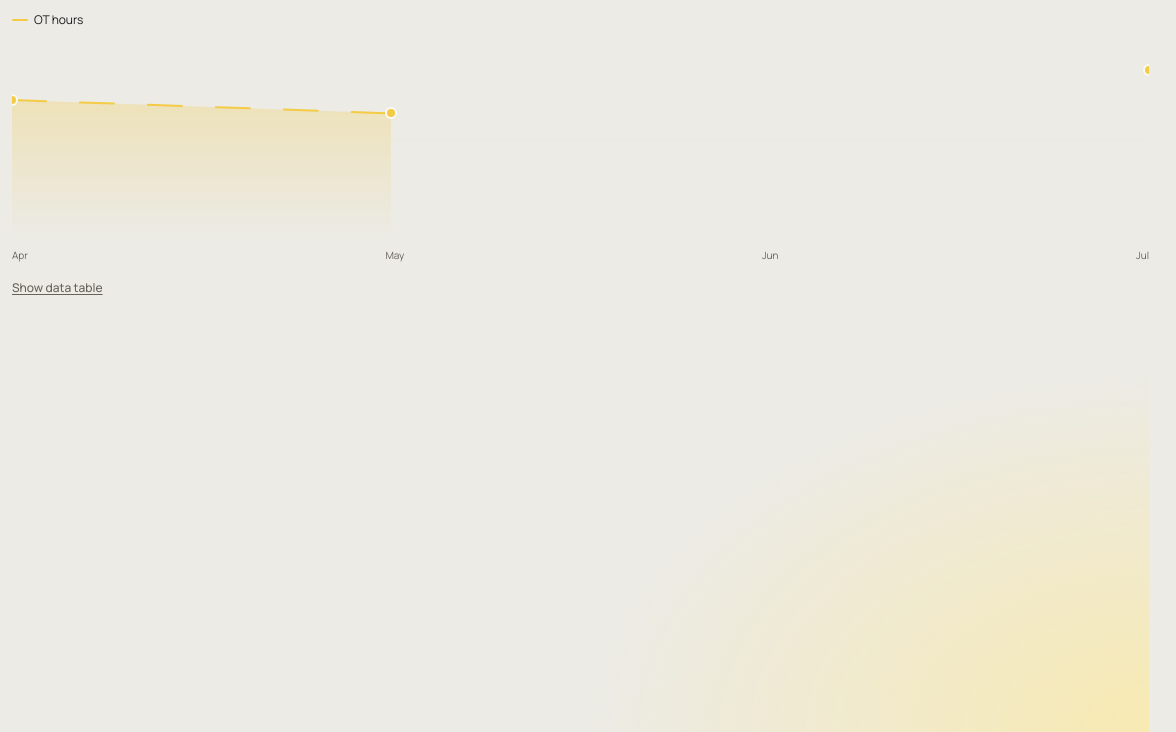
Test: TrendChart › offers a data table alternative (§7 data-table)
Click the button "Show data table": click(57, 288) top-left (12, 280), bottom-right (102, 296)
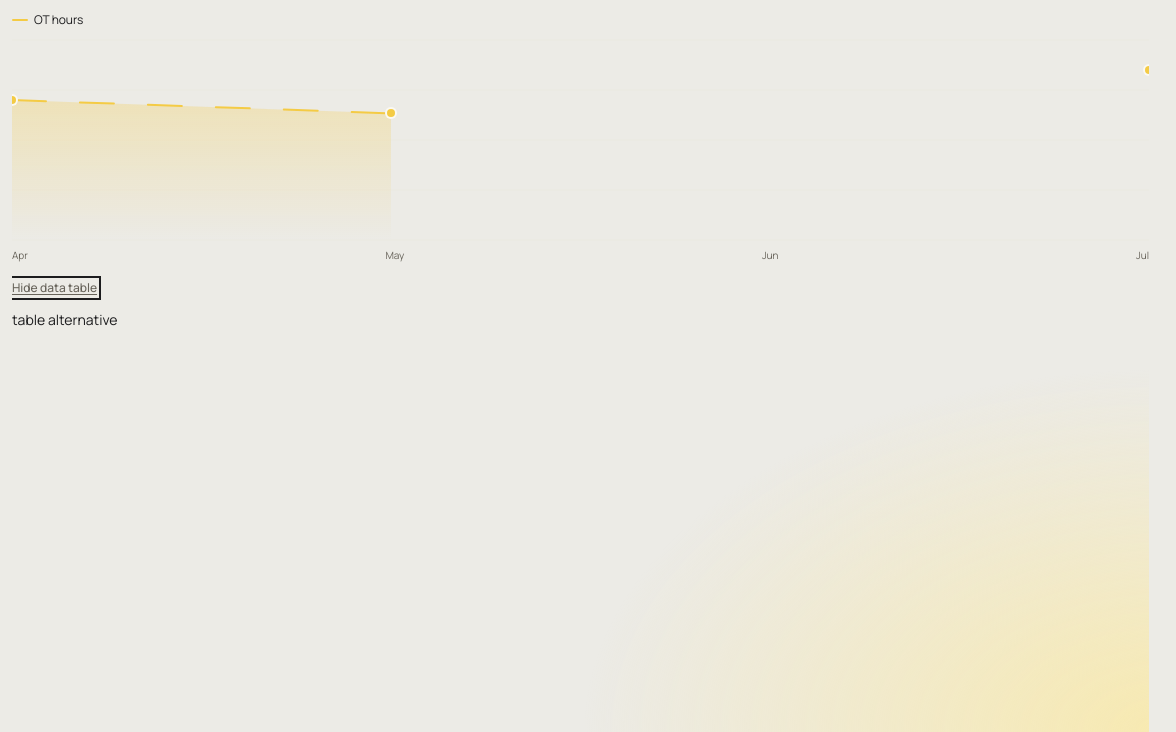
Expected: the text "table alternative" is shown, top-left (12, 309), bottom-right (118, 331)
